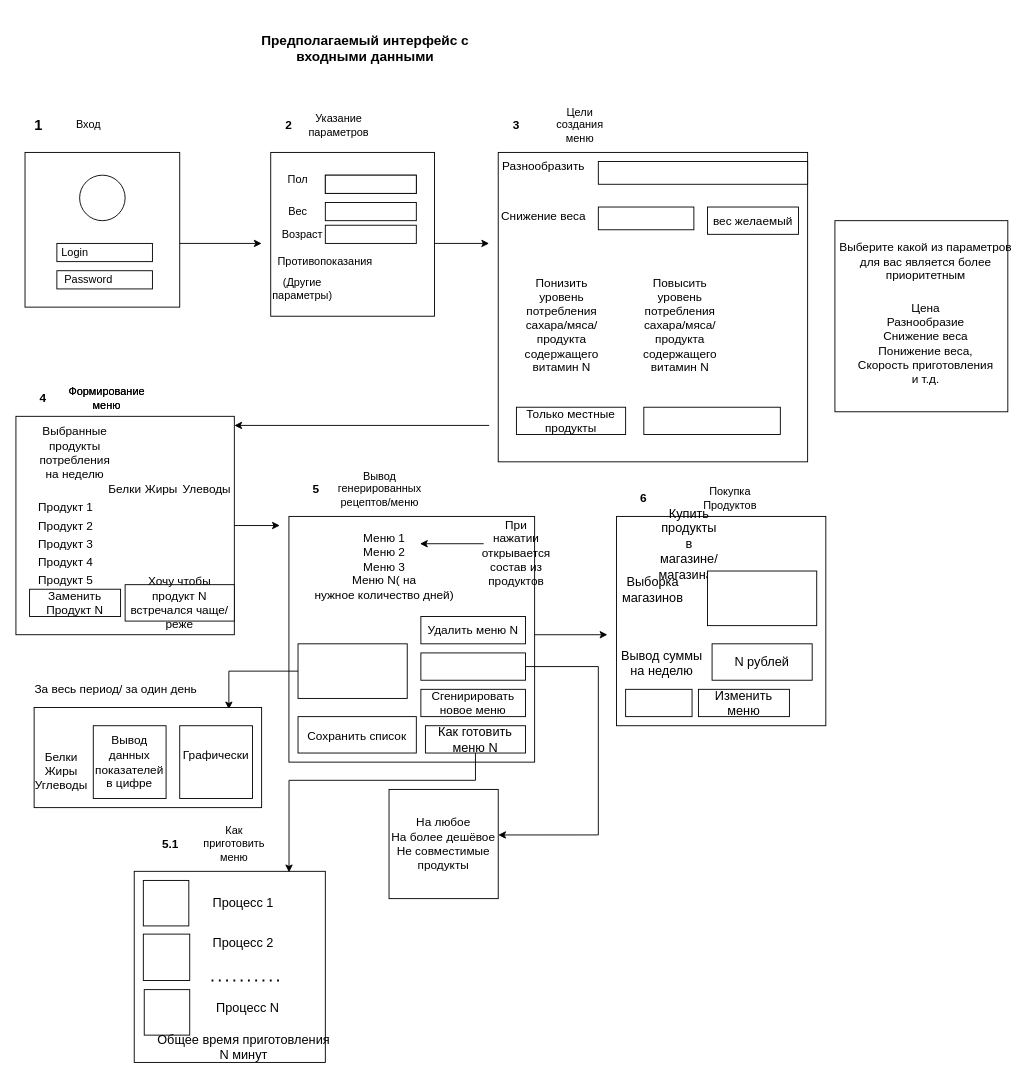
Image size: 1033x1078. Some labels were removed from this diagram. Each missing label, with the centre of its shape:
"Ввод потребляемых продуктов пользователя/его меню, которое хочется разнообразить" belongs at [702,172].
"вес нынешний" belongs at [645,218].
"Вывести предполагаемую статистику потребления" belongs at [352,670].
"Заказать" belongs at [658,702].
"Заменить меню N" belongs at [473,666].
"Оzon, пятёрочка, магнит и т.д." belongs at [762,598].
"Продукты не дороже N рублей" belongs at [711,420].
